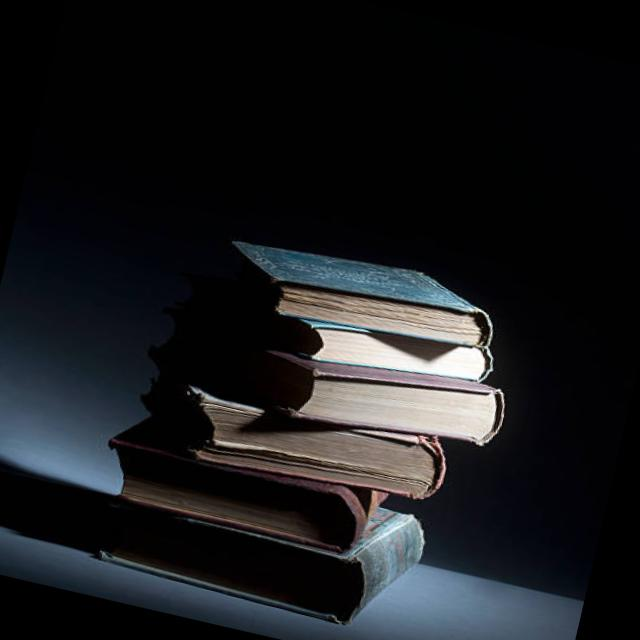electronic: (91, 444, 431, 639), (94, 404, 394, 560), (216, 226, 502, 362), (171, 380, 452, 512), (240, 330, 510, 462), (268, 298, 498, 399)
